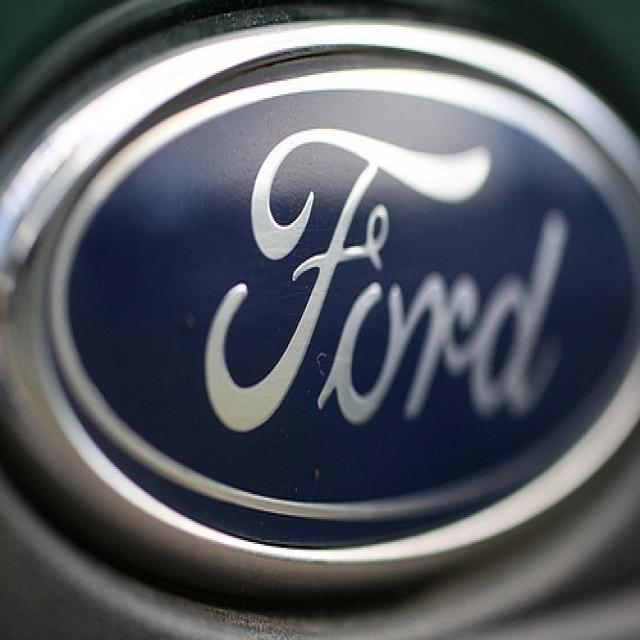ford: (2, 9, 640, 614)
